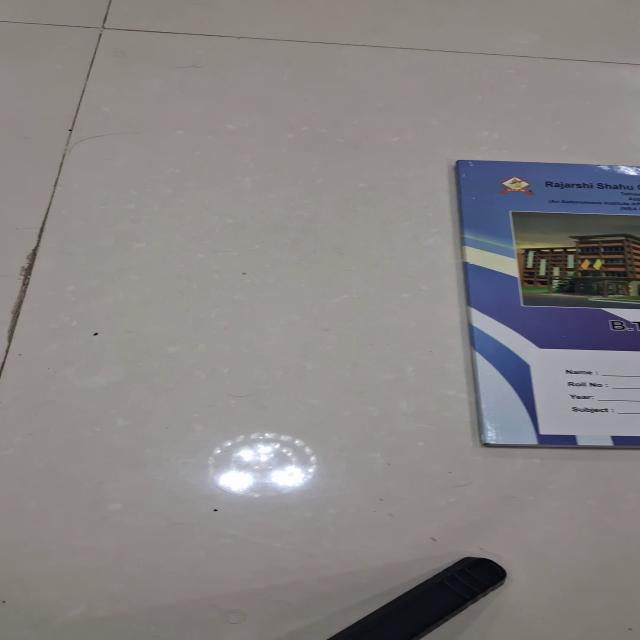paper: (454, 159, 639, 448)
